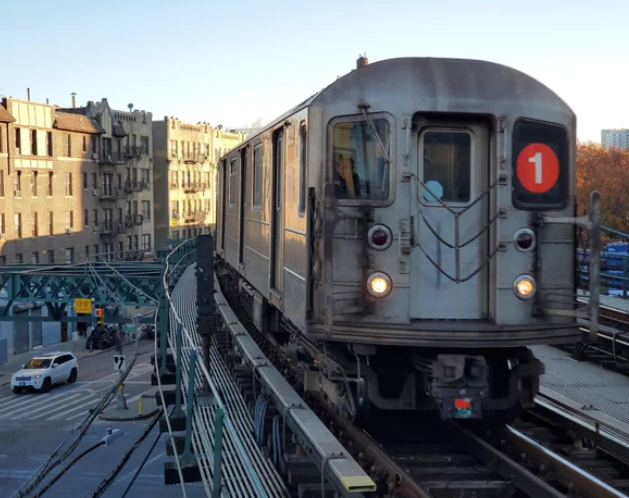train: (306, 56, 582, 353)
